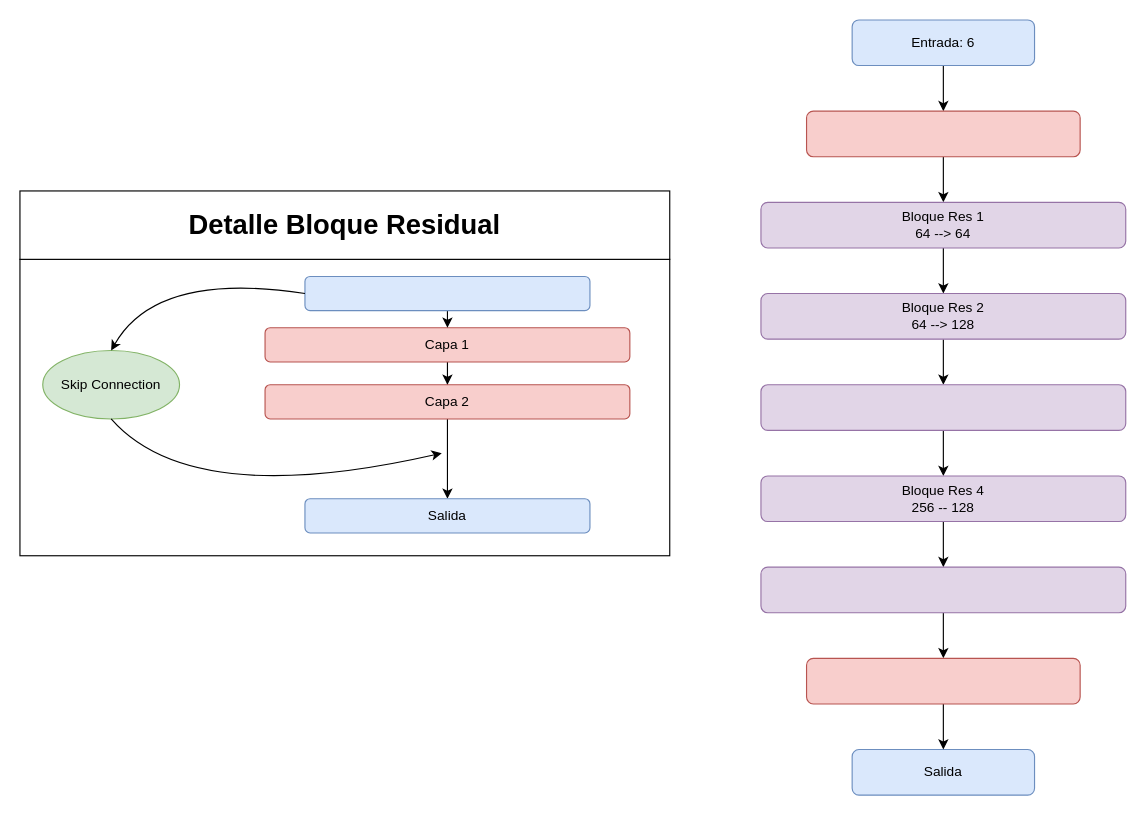
Some shapes in this 1146 by 815 pixel diagram are drawn without their labels. The shapes that lost their labels are listed below. From the top down, each one's centre as x and y in pixels, then its label:
At point 942,133: "Capa Inicial 6 --> 64".
At point 447,293: "Entrada".
At point 943,407: "Bloque Res 3 128 --> 256".
At point 943,589: "Bloque Res 5 128 --> 64".
At point 942,680: "Capa Final 64 --> 7".
